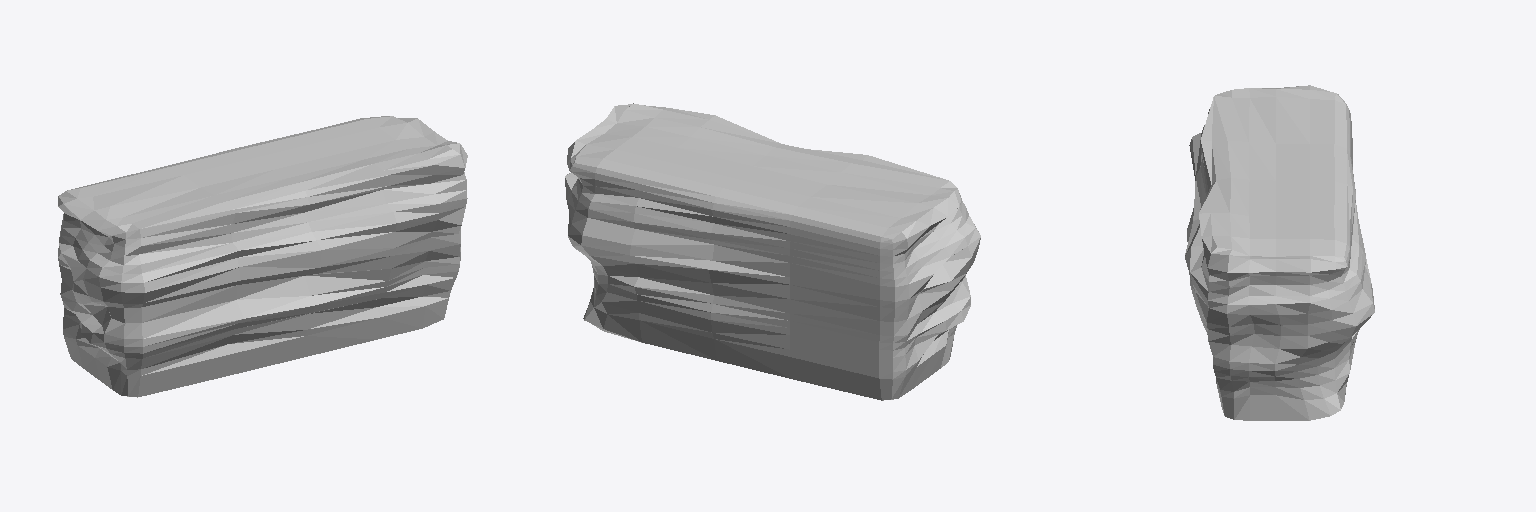
The model's file is env_level1_Canyon_Rock20.obj.
3 renders of one model, left to right at view 1: azimuth 30°, elevation 25°; view 2: azimuth 150°, elevation 25°; view 3: azimuth 270°, elevation 25°, orthographic.
Visible parts, largest first — view 1: rockwall_c02; view 2: rockwall_c02; view 3: rockwall_c02.
Boxes of the visible parts, x1=… form: rockwall_c02: x1=58, y1=116, x2=467, y2=397; rockwall_c02: x1=565, y1=103, x2=980, y2=400; rockwall_c02: x1=1185, y1=85, x2=1374, y2=420.
Bounding box in the file's own units: 6849 × 3105 × 3002.